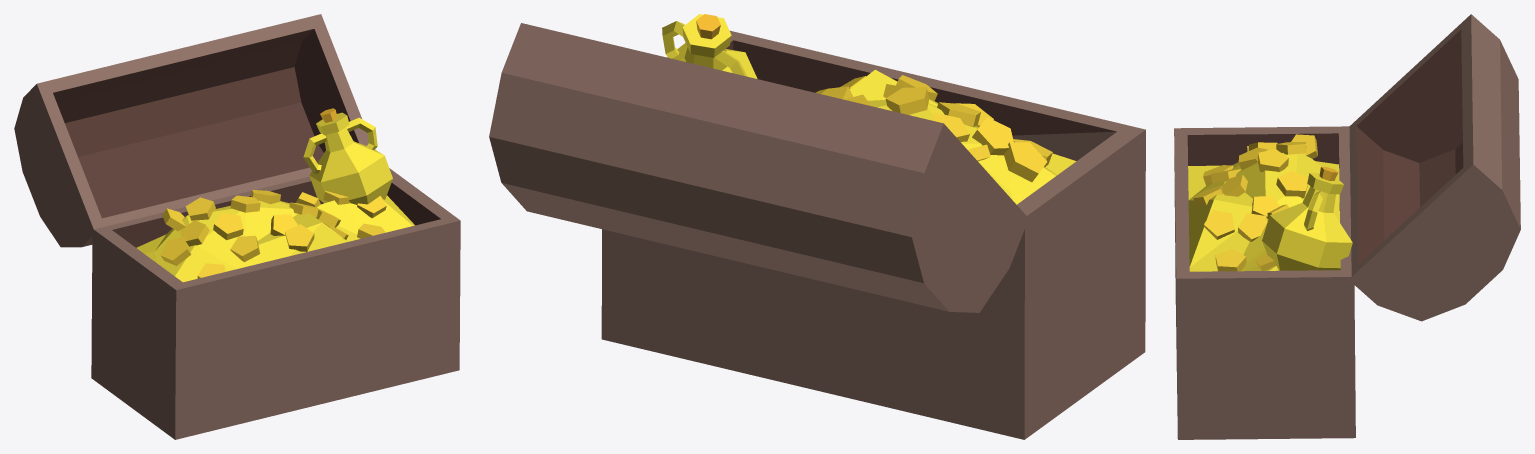
File: Ship_019.fbx
The picture shows the model from 3 angles, left to right: view 1: azimuth 30°, elevation 25°; view 2: azimuth 150°, elevation 25°; view 3: azimuth 270°, elevation 25°; orthographic projection. The views are drawn at different scales.
Visible parts, largest first — view 1: Ship_019; view 2: Ship_019; view 3: Ship_019.
Boxes of the visible parts, x1=… form: Ship_019: x1=14, y1=14, x2=460, y2=439; Ship_019: x1=489, y1=14, x2=1145, y2=439; Ship_019: x1=1174, y1=14, x2=1520, y2=439.
Bounding box in the file's own units: 100 × 97.51 × 85.56.
1 material, 1 textured.
